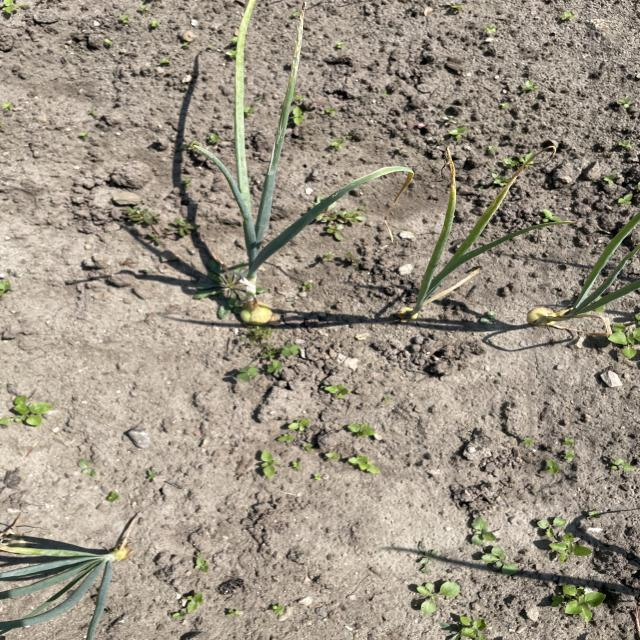Onion: (200, 58, 338, 329), (398, 170, 539, 319), (0, 534, 141, 640), (521, 216, 640, 331)
weed: (458, 512, 530, 587), (254, 411, 318, 486), (0, 380, 63, 445), (222, 339, 300, 391), (538, 512, 594, 565), (398, 575, 462, 615), (339, 420, 382, 479), (554, 582, 608, 621), (600, 316, 640, 359), (452, 611, 491, 640)
